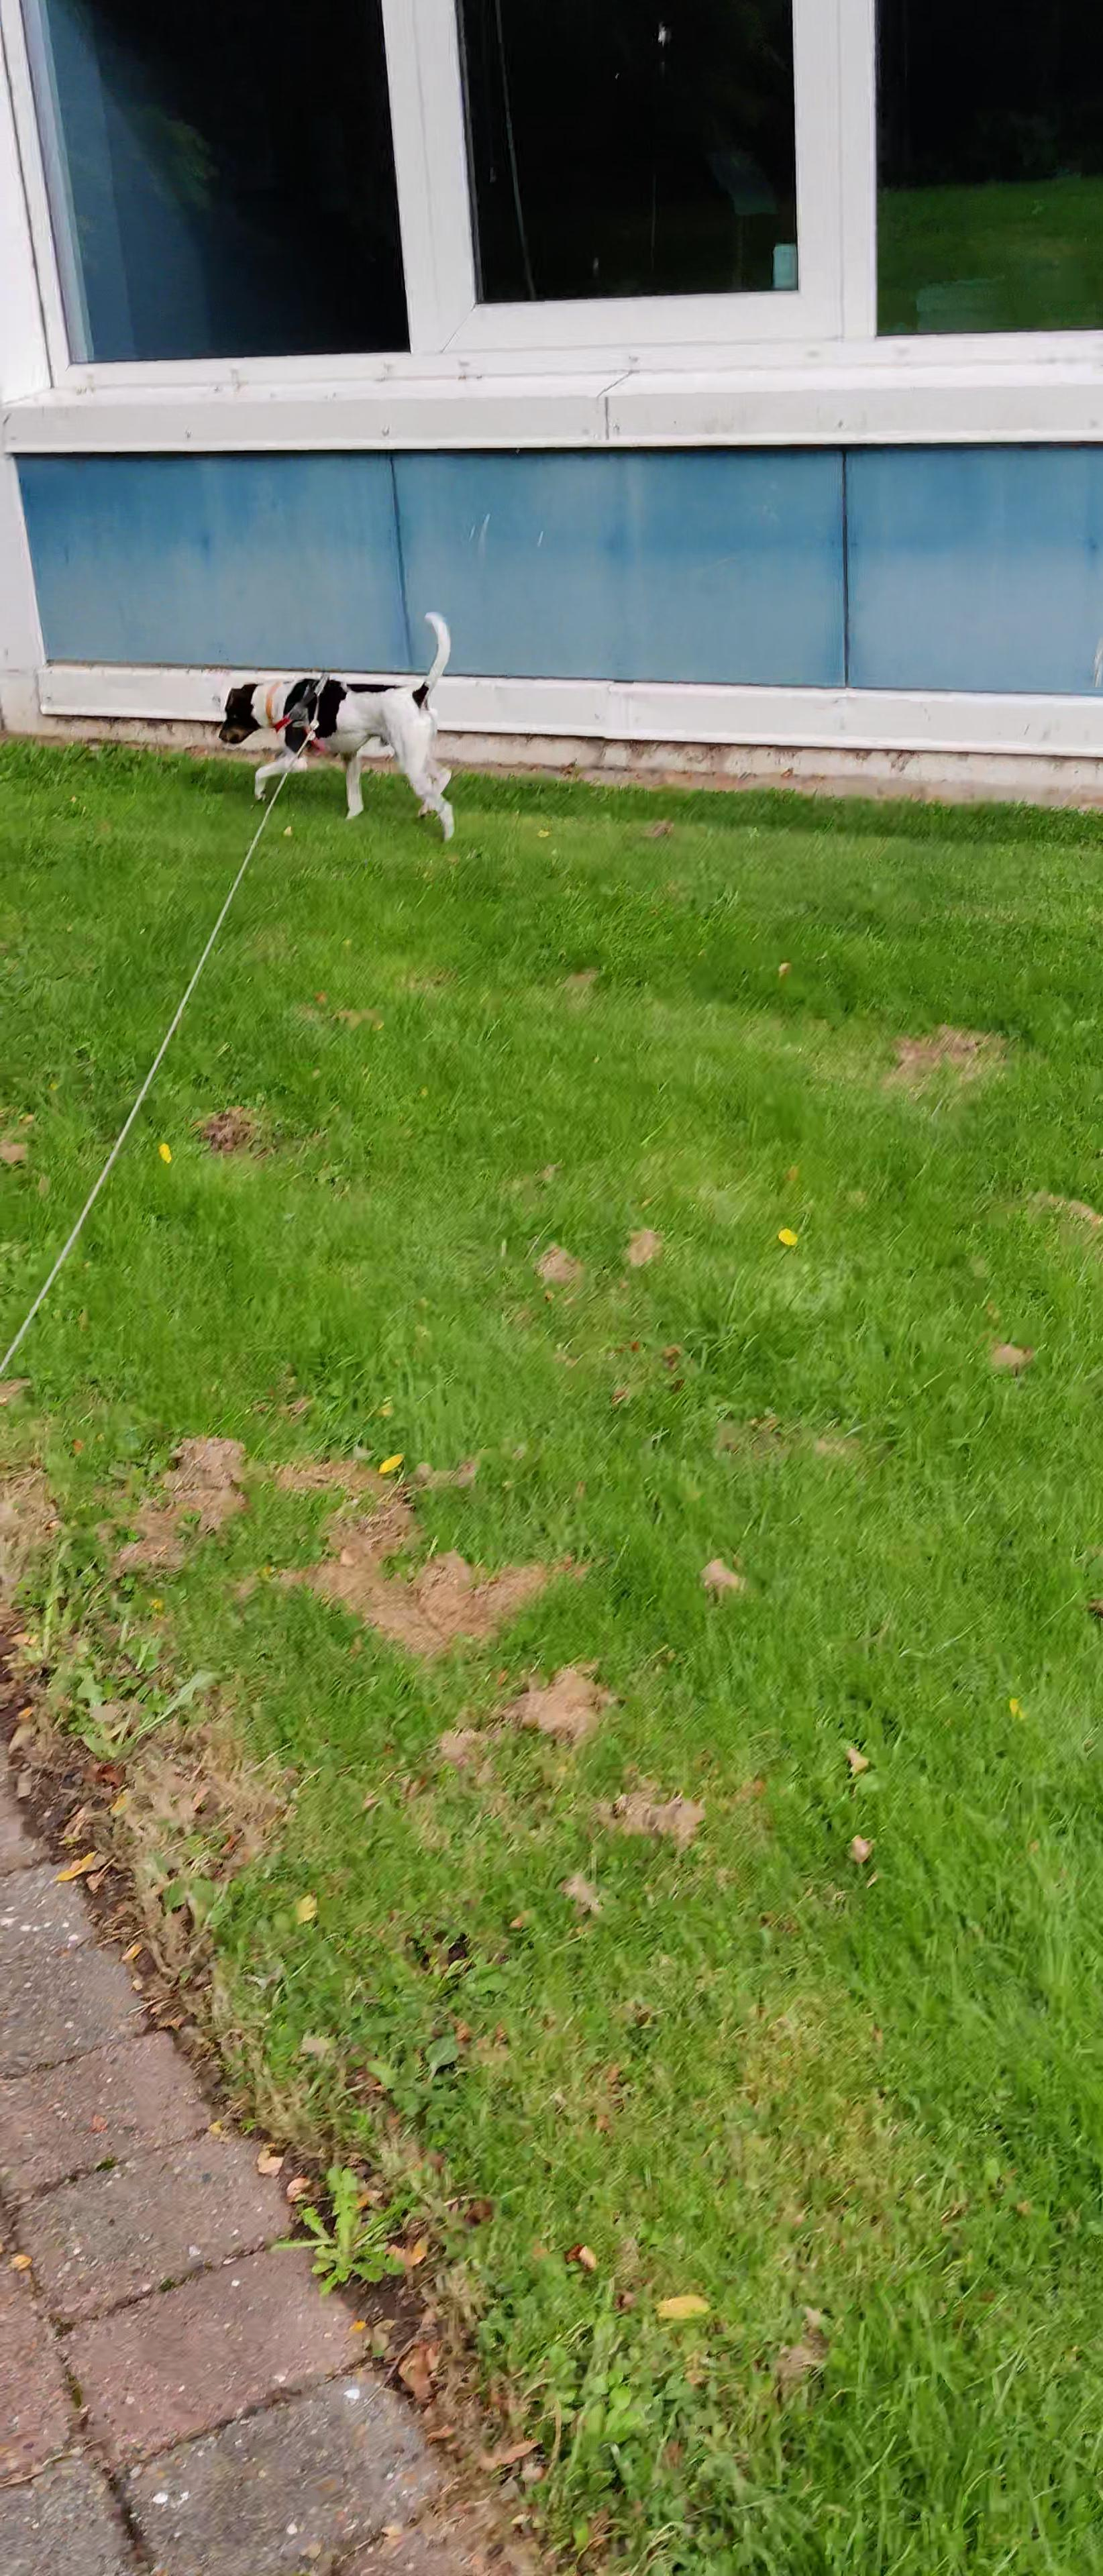Dog: (214, 608, 460, 843)
